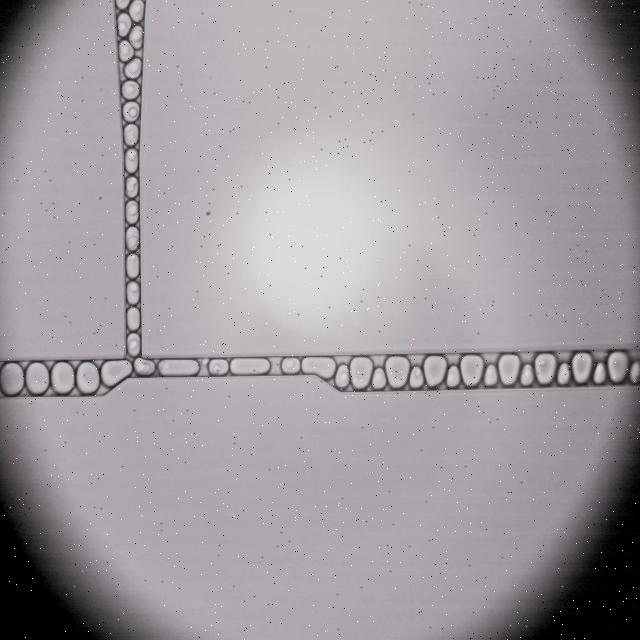L: (124, 57, 141, 78), (134, 358, 154, 375), (125, 148, 138, 173), (122, 102, 139, 121), (126, 281, 140, 304), (129, 0, 144, 21), (119, 41, 134, 62), (126, 254, 139, 278), (335, 365, 349, 387), (122, 81, 139, 99), (209, 359, 228, 375), (281, 358, 300, 374), (118, 13, 131, 36), (129, 26, 142, 49), (127, 333, 140, 356), (124, 124, 138, 145), (446, 366, 460, 387), (484, 365, 498, 386), (127, 307, 140, 329), (557, 363, 570, 385), (372, 369, 386, 389), (126, 201, 138, 224), (126, 227, 138, 250), (410, 367, 423, 388), (520, 364, 533, 385), (593, 363, 606, 384), (126, 177, 138, 197), (630, 361, 640, 383), (116, 0, 130, 9)
S: (101, 360, 132, 387), (385, 356, 410, 388), (0, 363, 24, 395), (51, 362, 74, 394), (302, 357, 335, 379), (461, 355, 484, 386), (77, 362, 100, 393), (26, 362, 49, 393), (350, 357, 372, 389), (424, 356, 447, 386), (159, 359, 199, 376), (499, 354, 520, 385), (230, 358, 270, 374), (608, 351, 628, 383), (535, 354, 556, 384), (572, 352, 592, 383)
